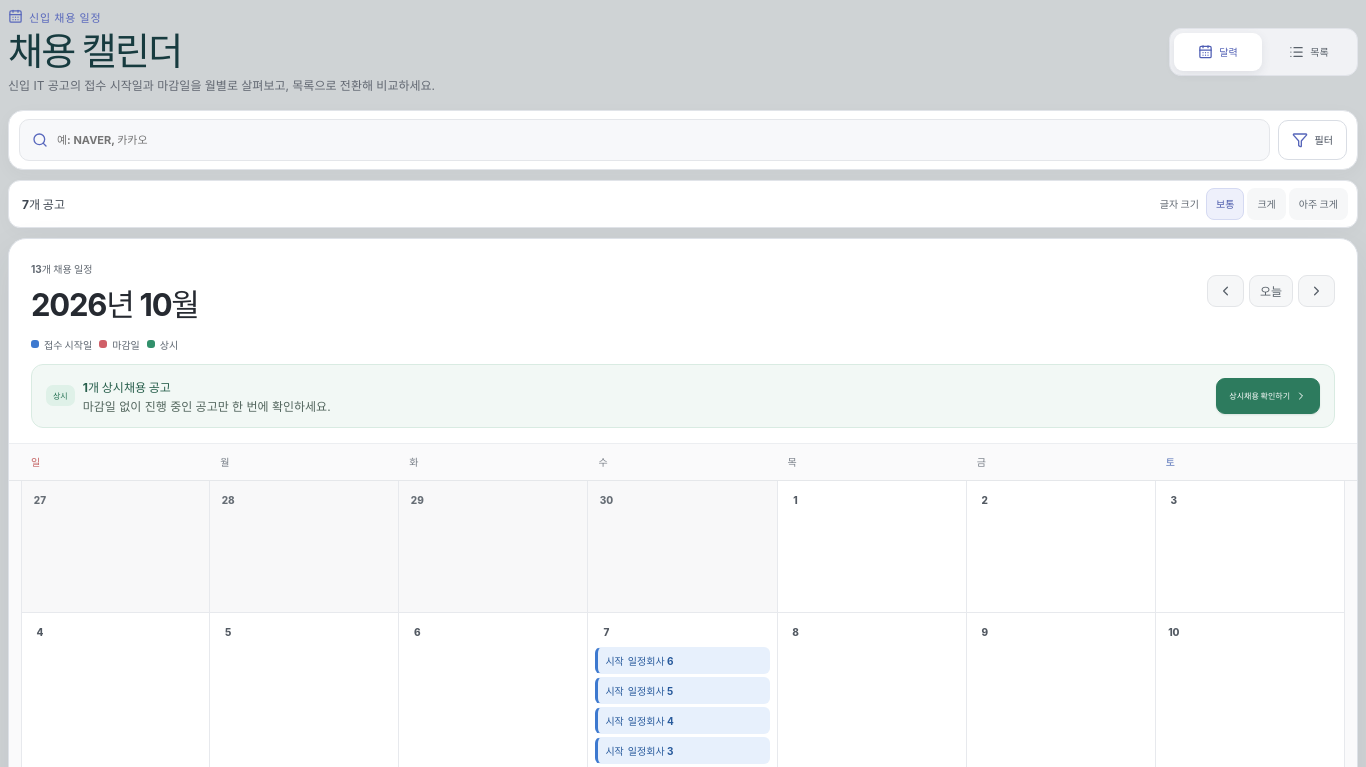
Test: domain pages › opens rolling jobs and hidden daily events in dedicated dialogs
The width and height of the screenshot is (1366, 767).
Step 1. Click the button "상시채용 확인하기" → click(1268, 396), box [1216,378,1320,414]
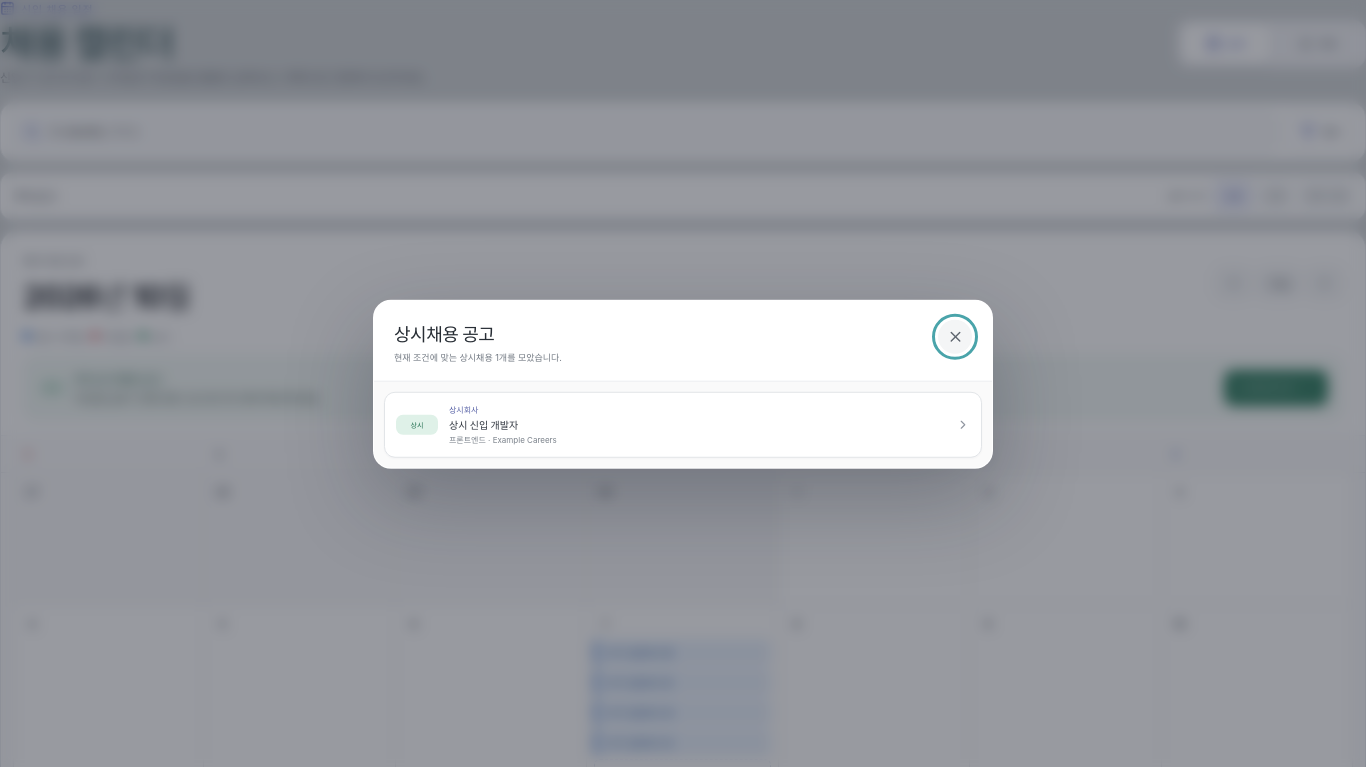
Result: the dialog "상시채용 공고" shows "상시회사" at [384,391,982,457]
Step 2. Click the button named "닫기" → click(955, 337), box [938,320,972,354]
(page scrolled)
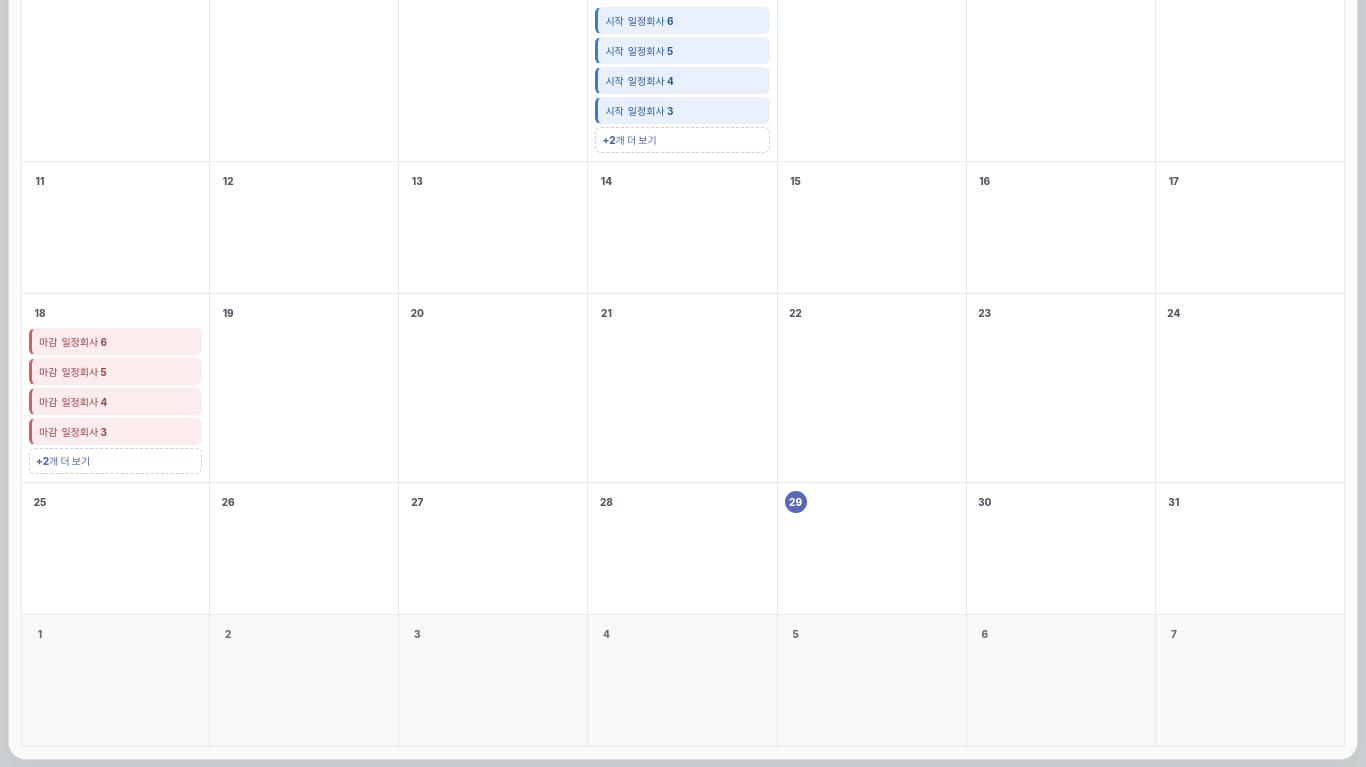
Step 3. Click the button with aria-label "추가 공고 2개 보기" → click(116, 461), box [29,448,202,474]
(page scrolled)
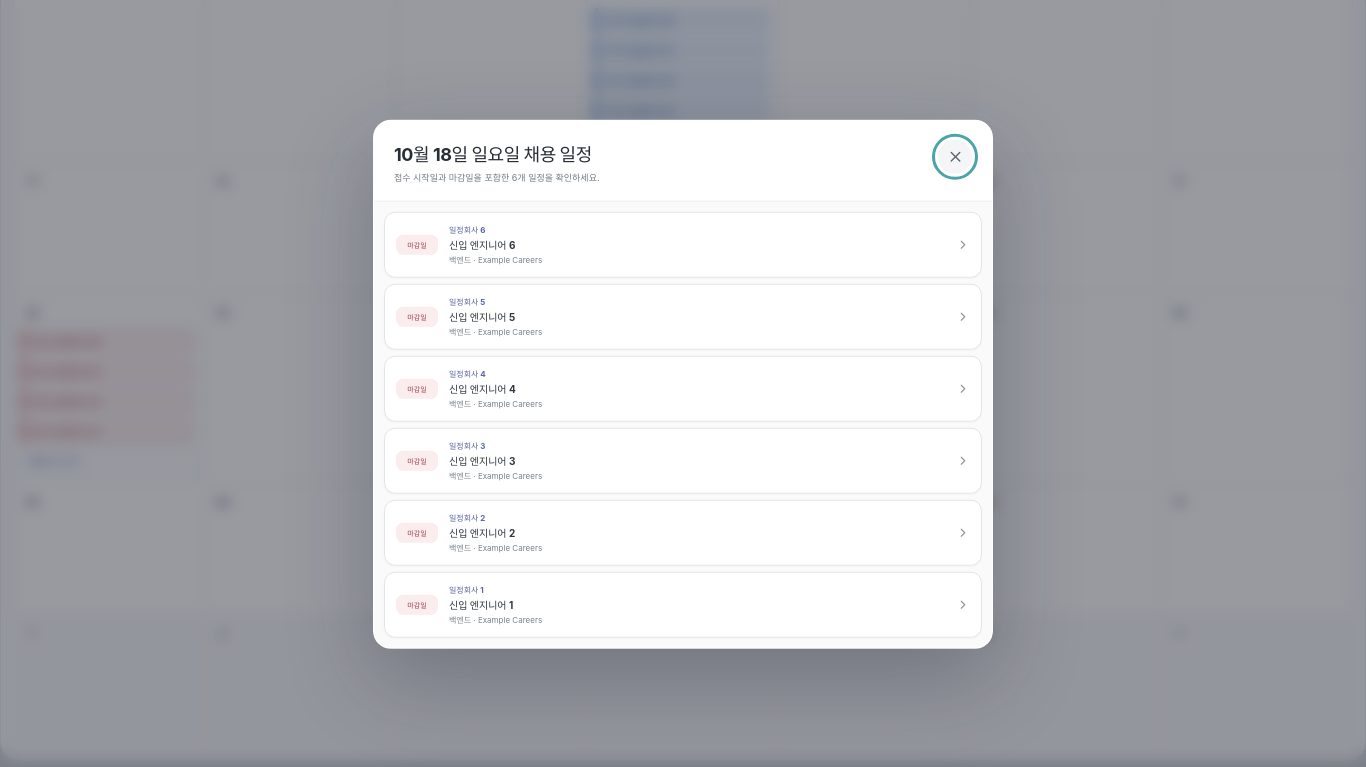
Result: the number of buttons named "상세 보기" is 6
Step 4. Click the button with aria-label "일정회사 1 신입 엔지니어 1 상세 보기" → click(417, 604), box [384,571,982,637]
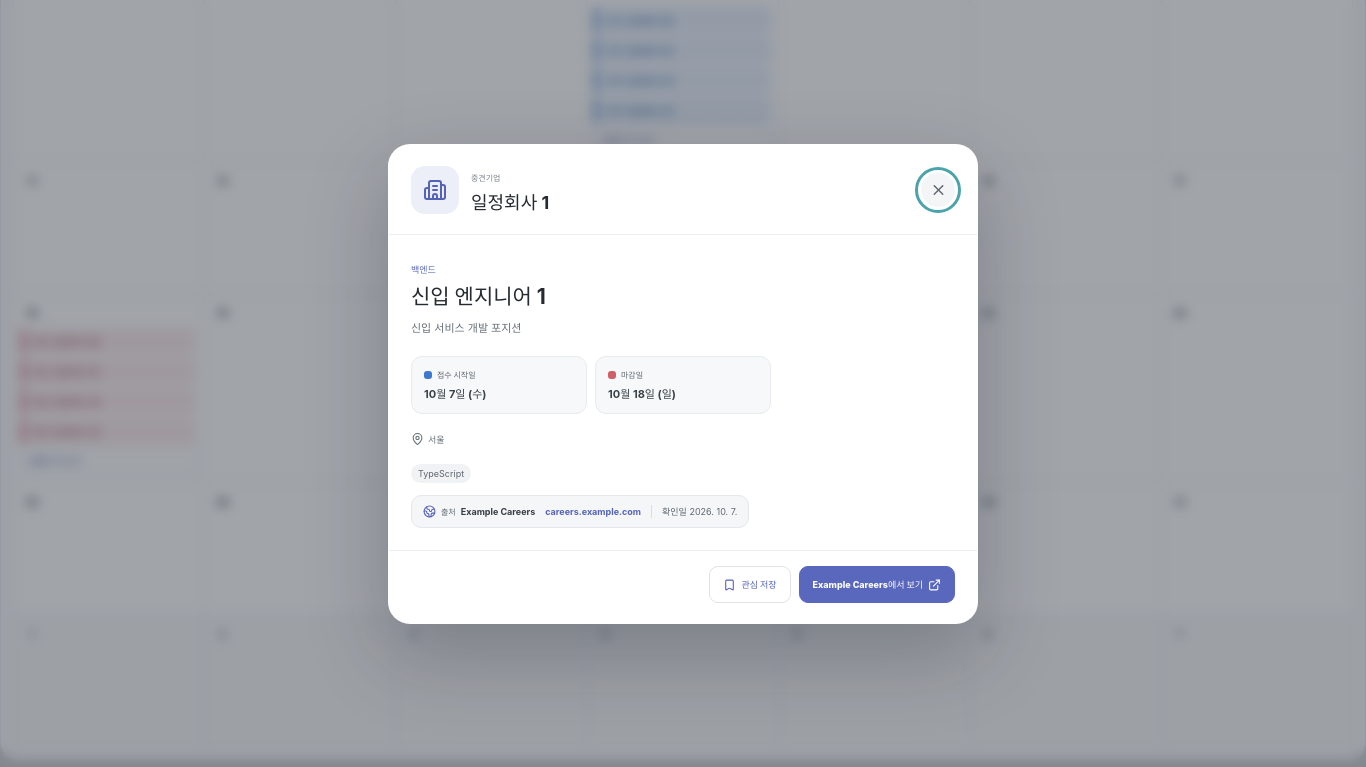
Result: the dialog "일정회사 1" shows "신입 엔지니어 1" at [411,284,546,309]
